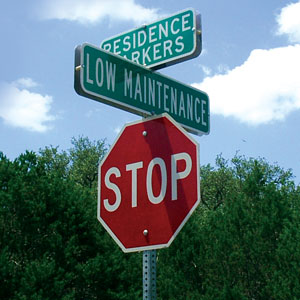stop: (96, 114, 200, 253), (96, 115, 175, 252), (98, 117, 161, 254), (98, 114, 201, 194), (96, 208, 202, 252)
